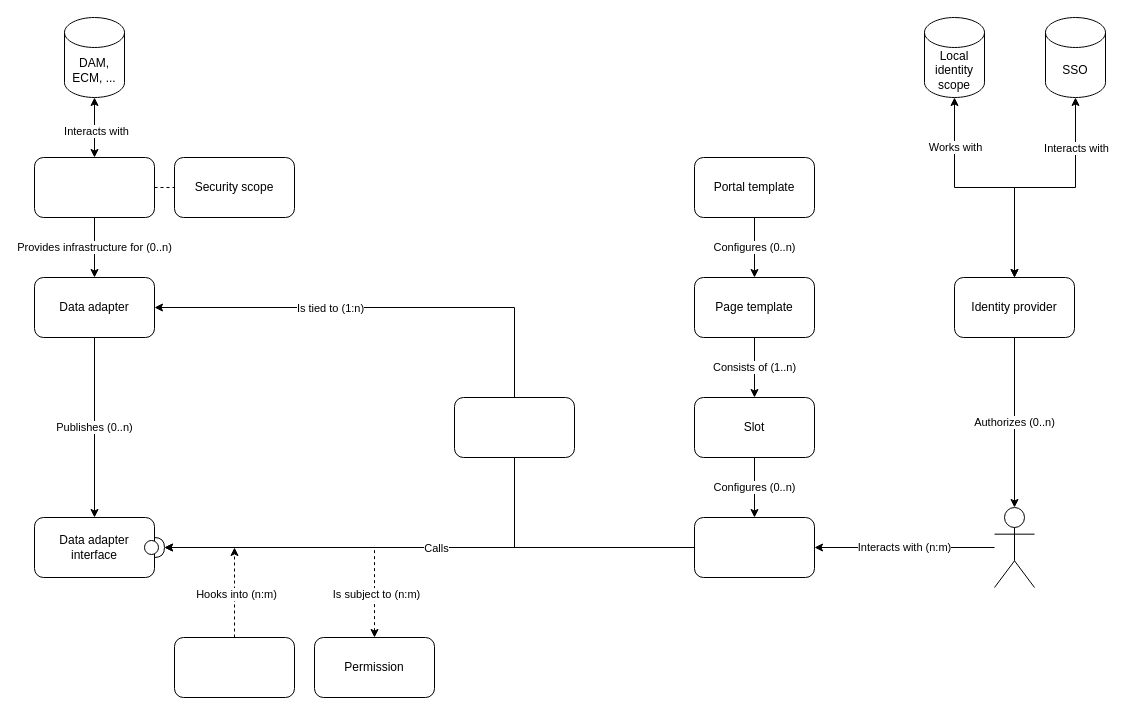
The diagram is 1126 pixels wide and 715 high, and some of its shapes have lost their labels. Each missing label, with the centre of its shape:
"Connector" belongs at point (94, 187).
"Data processor" belongs at point (234, 667).
"Task handler" belongs at point (514, 427).
"UI Component" belongs at point (754, 547).
"User" belongs at point (1014, 547).
